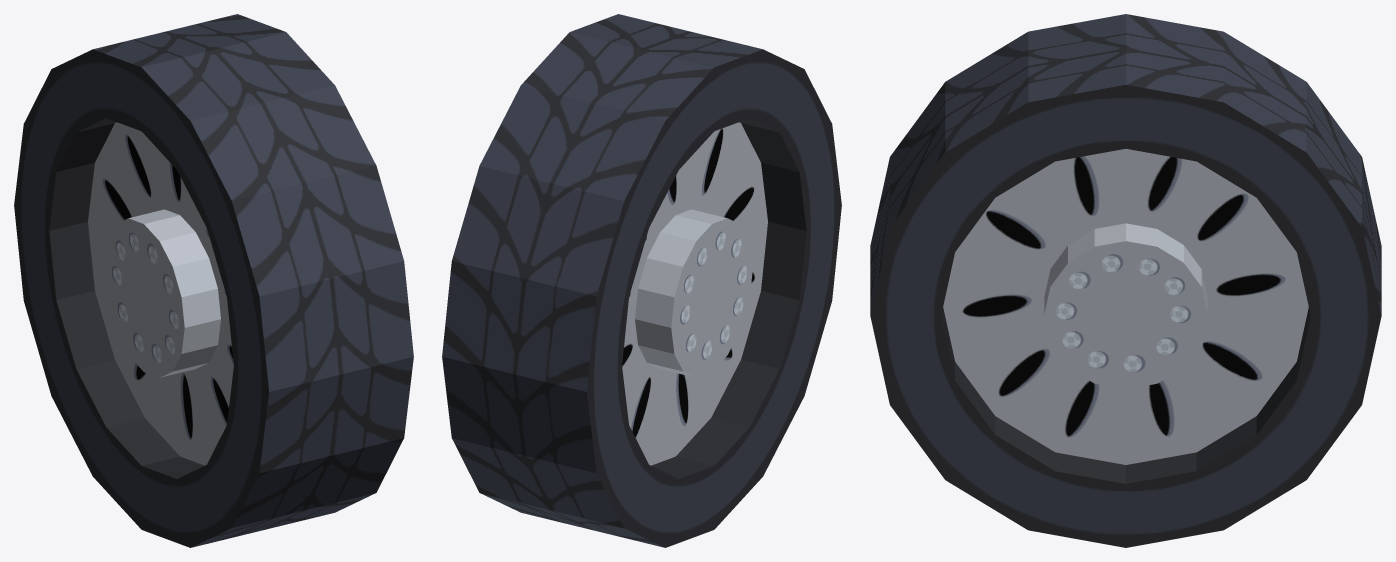
File: Wheel.fbx
3 renders of one model, left to right at view 1: azimuth 30°, elevation 25°; view 2: azimuth 150°, elevation 25°; view 3: azimuth 270°, elevation 25°, orthographic.
Visible parts, largest first — view 1: Wheel; view 2: Wheel; view 3: Wheel.
Part boxes in pixels (left/top/right/bottom): Wheel: left=14, top=14, right=413, bottom=547; Wheel: left=442, top=14, right=841, bottom=547; Wheel: left=870, top=14, right=1381, bottom=547.
Size of the model in its own units: 25.34 by 77.35 by 77.35.
Materials: 1 (1 with a texture image).
